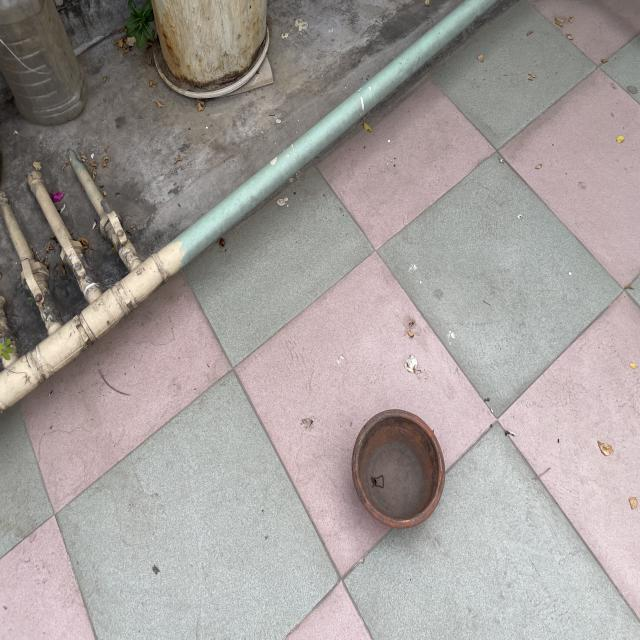Breeding Place: (357, 410, 445, 534)
